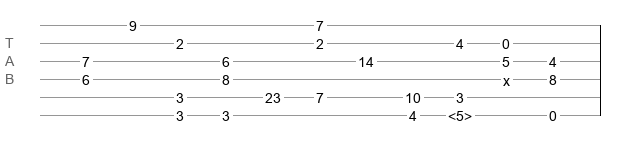0: (502, 36, 510, 46), (549, 108, 557, 118)
10: (405, 90, 421, 100)
14: (358, 54, 374, 64)
2: (176, 36, 184, 46), (316, 36, 324, 46)
23: (265, 90, 281, 100)
3: (176, 108, 184, 118), (176, 90, 184, 100), (222, 108, 230, 118), (456, 90, 464, 100)
4: (409, 108, 417, 118), (456, 36, 464, 46), (549, 54, 557, 64)
5: (502, 54, 510, 64)
6: (82, 72, 90, 82), (222, 54, 230, 64)
7: (82, 54, 90, 64), (316, 90, 324, 100), (316, 18, 324, 28)
8: (222, 72, 230, 82), (549, 72, 557, 82)
9: (129, 18, 137, 28)
harmonic: (448, 108, 472, 118)
x: (503, 73, 510, 81)
